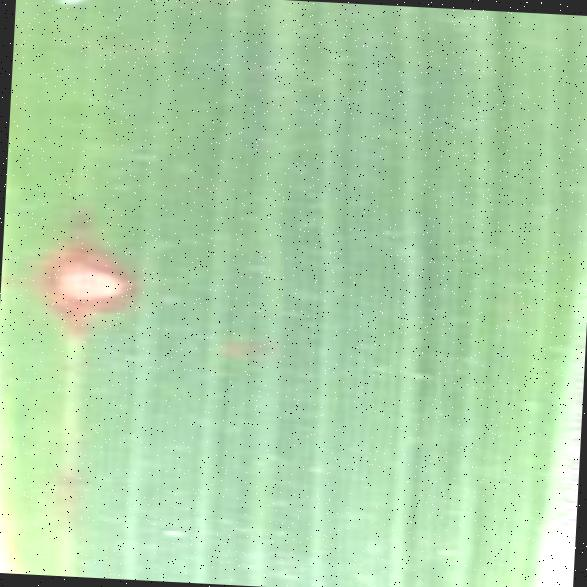Leaf_smut: (13, 191, 196, 384)
